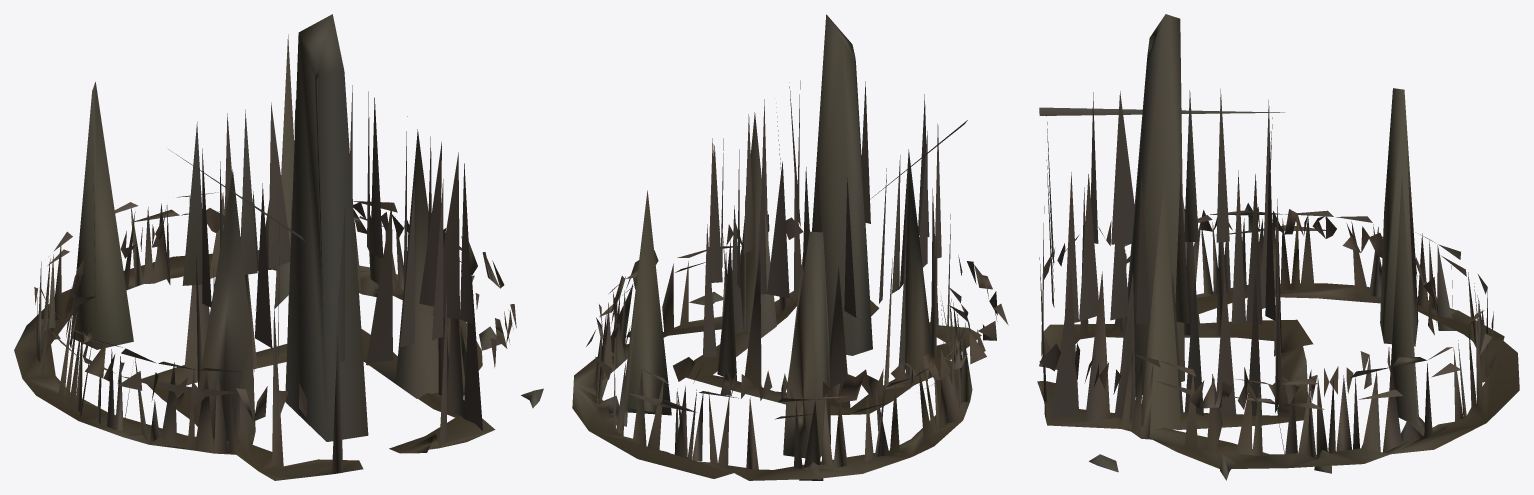
File: monumento_c_lejos.glb
3 views of the same model, side by side, from view 1: azimuth 30°, elevation 25°; view 2: azimuth 150°, elevation 25°; view 3: azimuth 270°, elevation 25° (orthographic). The views are drawn at different scales.
Parts seen in each view (by area): view 1: monumento_c_lejos; view 2: monumento_c_lejos; view 3: monumento_c_lejos.
Part boxes in pixels (x1,y1,x2,y2): monumento_c_lejos: (14,14,543,480); monumento_c_lejos: (572,14,1008,480); monumento_c_lejos: (1037,14,1519,480).
Bounding box in the file's own units: 13.39 × 12.47 × 14.31.
